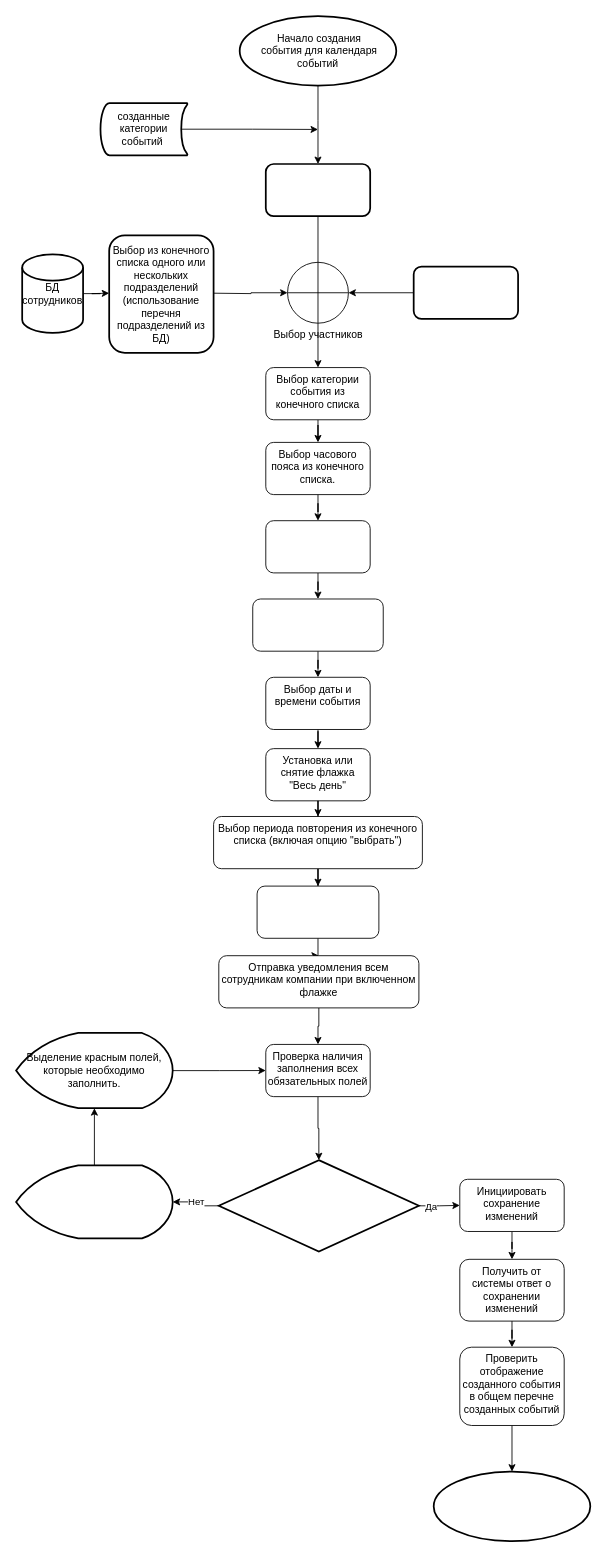
The diagram is 606 pixels wide and 1556 high, and some of its shapes have lost their labels. Each missing label, with the box of its shape:
Ввод наименования события через текстовое поле: (264, 163, 371, 217)
Ввод описания события через многострочное текстовое поле.: (252, 598, 383, 651)
Ввод ссылки или места проведения через текстовое поле: (265, 520, 370, 573)
Все обязательные поля заполнены?: (218, 1159, 419, 1252)
Выбор из конечного списка всех сотрудников: (412, 265, 519, 319)
Конец создания события для календаря событий: (432, 1470, 591, 1542)
Отображение ошибки с информацией "не заполнены обязательные поля": (15, 1164, 173, 1239)
Установка или снятие флажка "Уведомить о событии": (256, 885, 379, 938)
